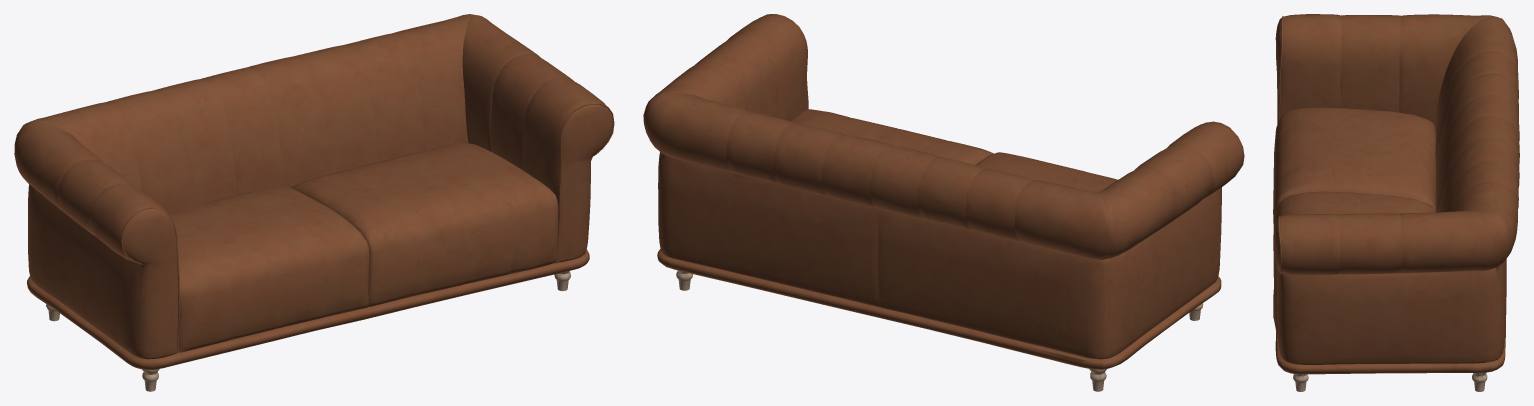
Rendered from viskafors-sofa-de-2-plazas-hogalid-marronabedul.glb.
3 views of the same model, side by side, from view 1: azimuth 30°, elevation 25°; view 2: azimuth 150°, elevation 25°; view 3: azimuth 270°, elevation 25° (orthographic). The views are drawn at different scales.
Visible parts, largest first — view 1: Mesh_0; view 2: Mesh_0; view 3: Mesh_0.
Part boxes in pixels (bbox=[...]): Mesh_0: bbox=[14, 14, 614, 391]; Mesh_0: bbox=[643, 14, 1244, 391]; Mesh_0: bbox=[1273, 14, 1519, 391].
Size of the model in its own units: 1.96 by 0.7432 by 0.9095.
1 material, 1 textured.
